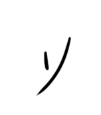so: (32, 34, 73, 98)
